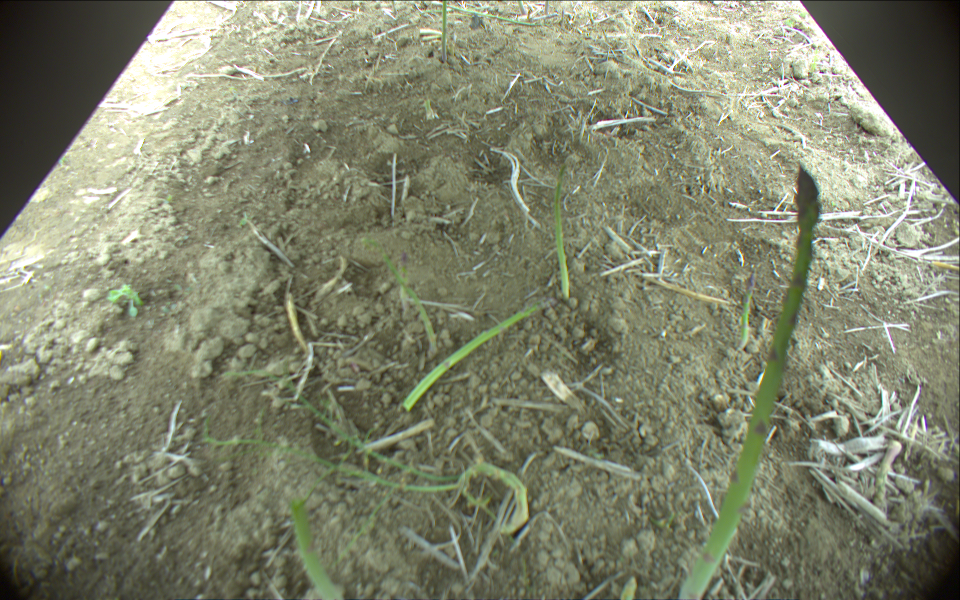aspa: (676, 164, 819, 600), (404, 297, 538, 411), (327, 460, 530, 535), (366, 237, 442, 356), (289, 498, 342, 600), (553, 153, 573, 301), (432, 1, 538, 25), (438, 1, 445, 61)
